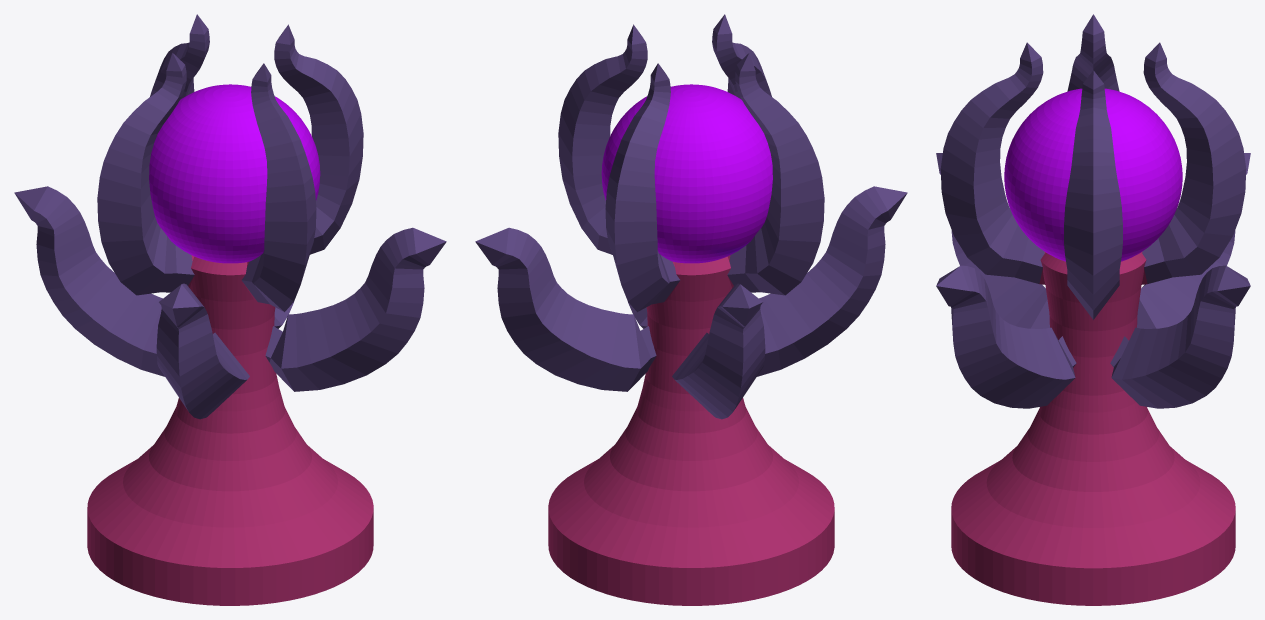
The model's file is spawn_tile.fbx.
The picture shows the model from 3 angles, left to right: view 1: azimuth 30°, elevation 25°; view 2: azimuth 150°, elevation 25°; view 3: azimuth 270°, elevation 25°; orthographic projection.
Parts seen in each view (by area): view 1: Circle; view 2: Circle; view 3: Circle.
Part boxes in pixels (x1=…): Circle: x1=14, y1=14, x2=446, y2=605; Circle: x1=475, y1=14, x2=907, y2=605; Circle: x1=936, y1=14, x2=1250, y2=605.
Bounding box in the file's own units: 295 × 520 × 295.
Materials: 1 (1 with a texture image).
